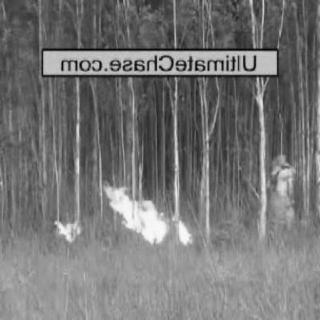Fire: (57, 216, 81, 242), (177, 212, 193, 242)
